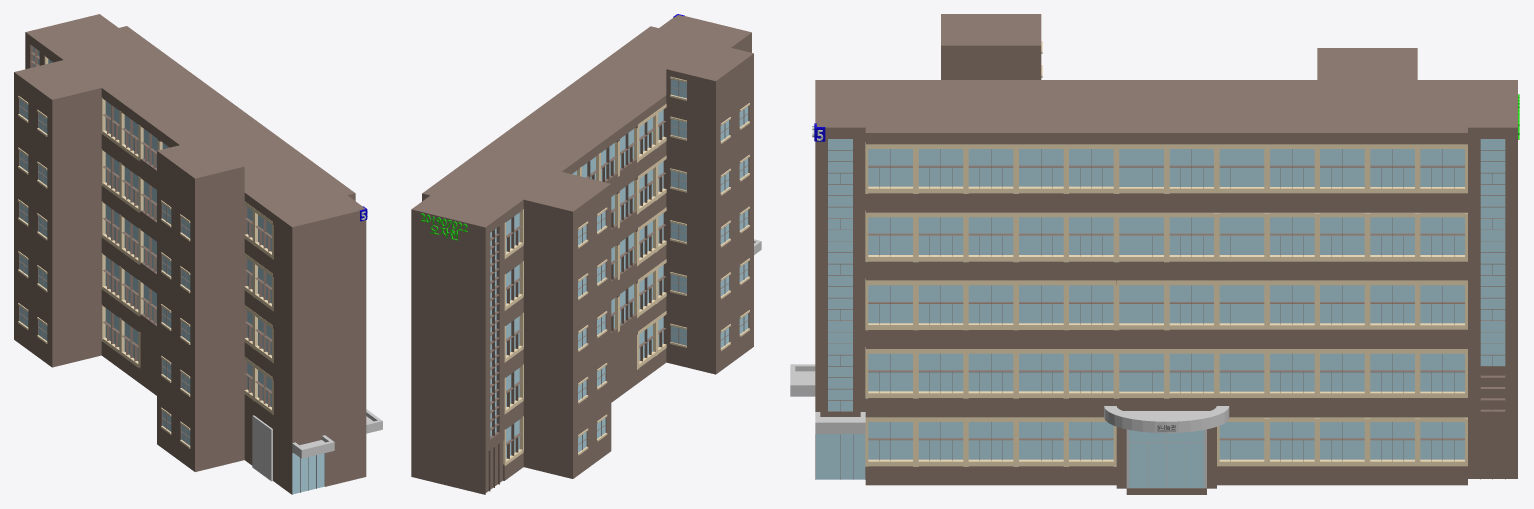
File: 5building_3.glb
3 views of the same model, side by side, from view 1: azimuth 30°, elevation 25°; view 2: azimuth 150°, elevation 25°; view 3: azimuth 270°, elevation 25° (orthographic). The views are drawn at different scales.
Parts seen in each view (by area): view 1: main, Cube.007, sidebar-1, Cube.018, Cube.067, 후면창문, sidebar-2, Cube.059, Cube.048, Cube.056, Cube.051, Cube.040 (+1 smaller); view 2: main, sidebar-2, Cube.007, Cube.018, Cube.067, 후면창문, sidebar-1, Cube.049, Cube.048, Cube.059, Cube.040, Cube.038 (+1 smaller); view 3: main, 전면창문, Cube.068, sidebar-2, sidebar-1, Cube.007, Cube.065, Cube.027, Cube.018, Cylinder, Cube.029, Cube.050 (+4 smaller).
Part boxes in pixels (x1=…): main: x1=44, y1=26, x2=355, y2=465; Cube.007: x1=157, y1=138, x2=244, y2=471; sidebar-1: x1=273, y1=195, x2=366, y2=494; Cube.018: x1=14, y1=60, x2=101, y2=367; Cube.067: x1=44, y1=55, x2=273, y2=414; 후면창문: x1=48, y1=59, x2=271, y2=406; sidebar-2: x1=25, y1=14, x2=118, y2=69; Cube.059: x1=19, y1=99, x2=47, y2=340; Cube.048: x1=162, y1=204, x2=190, y2=445; Cube.056: x1=292, y1=453, x2=324, y2=494; Cube.051: x1=252, y1=415, x2=272, y2=481; Cube.040: x1=161, y1=200, x2=190, y2=448; main: x1=422, y1=26, x2=732, y2=480; sidebar-2: x1=411, y1=195, x2=504, y2=494; Cube.007: x1=666, y1=41, x2=753, y2=374; Cube.018: x1=523, y1=172, x2=611, y2=478; Cube.067: x1=503, y1=104, x2=666, y2=465; 후면창문: x1=506, y1=109, x2=663, y2=458; sidebar-1: x1=659, y1=15, x2=751, y2=52; Cube.049: x1=671, y1=79, x2=686, y2=345; Cube.048: x1=720, y1=106, x2=748, y2=347; Cube.059: x1=578, y1=211, x2=605, y2=452; Cube.040: x1=720, y1=103, x2=749, y2=350; Cube.038: x1=490, y1=228, x2=496, y2=436; main: x1=865, y1=80, x2=1467, y2=485; 전면창문: x1=868, y1=149, x2=1464, y2=459; Cube.068: x1=865, y1=142, x2=1467, y2=466; sidebar-2: x1=1468, y1=80, x2=1517, y2=479; sidebar-1: x1=815, y1=80, x2=865, y2=479; Cube.007: x1=941, y1=14, x2=1041, y2=79; Cube.065: x1=1480, y1=139, x2=1505, y2=365; Cube.027: x1=828, y1=139, x2=852, y2=365; Cube.018: x1=1317, y1=48, x2=1417, y2=79; Cylinder: x1=1104, y1=406, x2=1229, y2=432; Cube.029: x1=815, y1=434, x2=865, y2=479; Cube.050: x1=1129, y1=430, x2=1166, y2=487.
Bounding box in the file's own units: 95.6 × 170 × 291.
